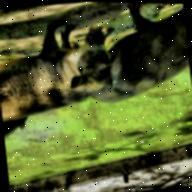boar: (0, 19, 126, 148), (78, 22, 192, 129)
